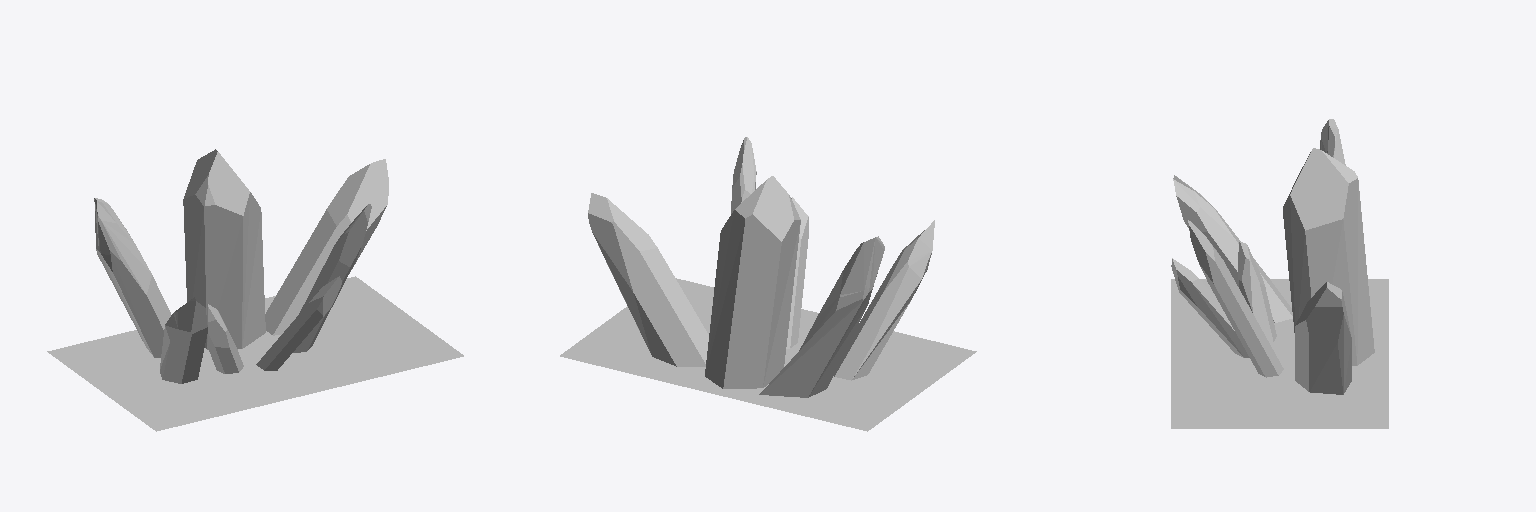
Rendered from Low-poly+Crystals.obj.
3 renders of one model, left to right at view 1: azimuth 30°, elevation 25°; view 2: azimuth 150°, elevation 25°; view 3: azimuth 270°, elevation 25°, orthographic.
Parts seen in each view (by area): view 1: Plane.001_Plane.005; view 2: Plane.001_Plane.005; view 3: Plane.001_Plane.005.
Boxes of the visible parts, box(x1,y1,x2,y2) form: Plane.001_Plane.005: box(47, 149, 463, 431); Plane.001_Plane.005: box(560, 137, 976, 431); Plane.001_Plane.005: box(1171, 119, 1388, 428).
Size of the model in its own units: 8.41 by 5.1 by 5.15.